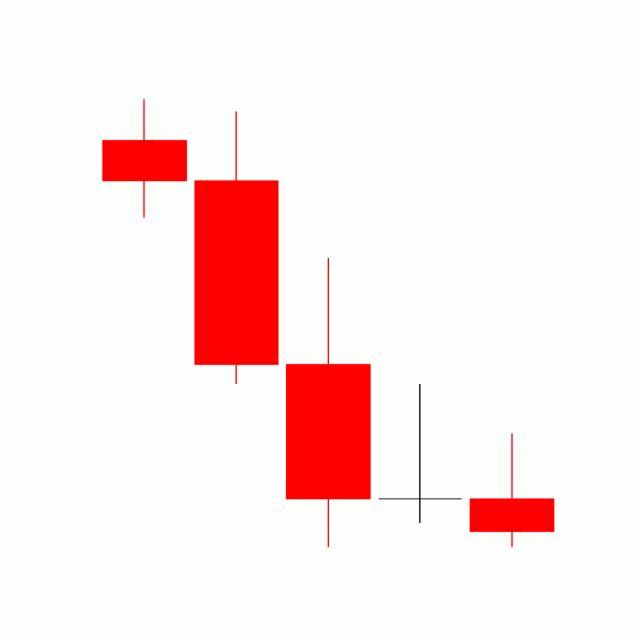Gravestone Doji: (374, 383, 468, 525)
